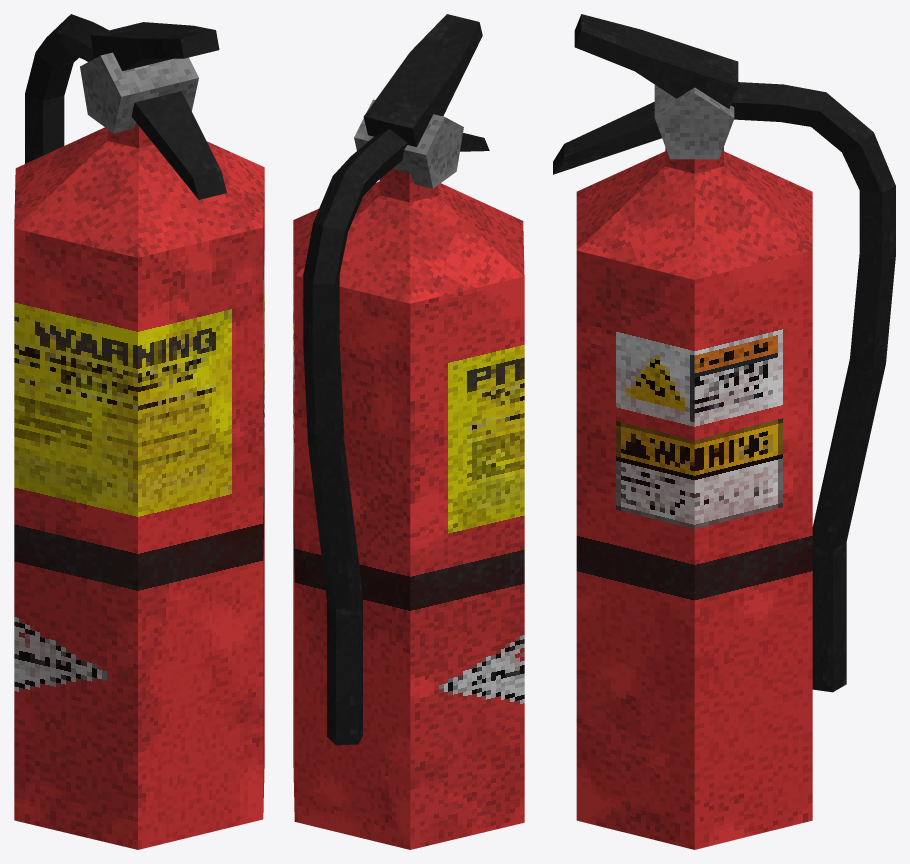
3 renders of one model, left to right at view 1: azimuth 30°, elevation 25°; view 2: azimuth 150°, elevation 25°; view 3: azimuth 270°, elevation 25°, orthographic. The views are drawn at different scales.
Parts seen in each view (by area): view 1: tank, hose, valve assembly, handle, release lever; view 2: tank, hose, release lever, valve assembly; view 3: tank, hose, release lever, valve assembly, handle.
Part boxes in pixels (x1=…): tank: x1=14, y1=122, x2=264, y2=849; hose: x1=25, y1=14, x2=108, y2=163; valve assembly: x1=80, y1=52, x2=198, y2=133; handle: x1=131, y1=91, x2=226, y2=199; release lever: x1=90, y1=22, x2=219, y2=70; tank: x1=293, y1=168, x2=524, y2=849; hose: x1=303, y1=129, x2=407, y2=745; release lever: x1=363, y1=14, x2=482, y2=146; valve assembly: x1=354, y1=99, x2=463, y2=188; tank: x1=576, y1=147, x2=812, y2=849; hose: x1=731, y1=82, x2=895, y2=692; release lever: x1=574, y1=14, x2=738, y2=108; valve assembly: x1=654, y1=85, x2=734, y2=159; handle: x1=553, y1=101, x2=661, y2=174.
Bounding box in the file's own units: 0.4427 × 1.35 × 0.5449.
1 material, 1 textured.
